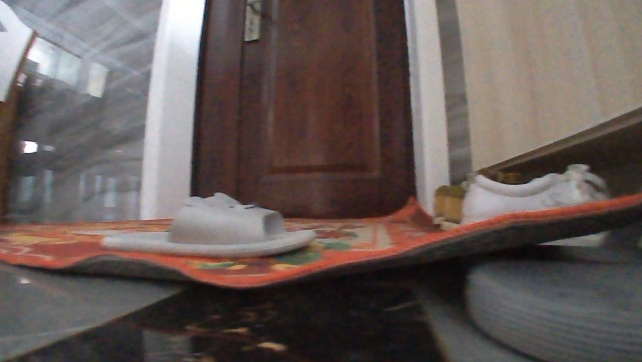blanket: (0, 192, 640, 290)
door_anno: (185, 0, 418, 239)
slipper: (96, 187, 316, 261)
